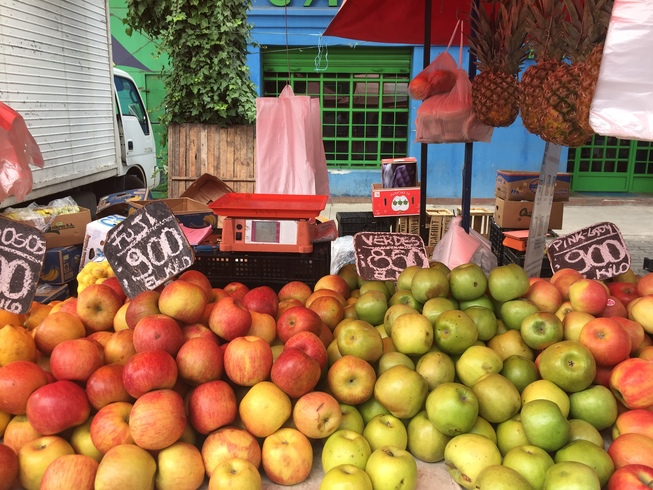precio: (96, 196, 201, 304), (542, 217, 634, 298), (350, 228, 437, 288)
